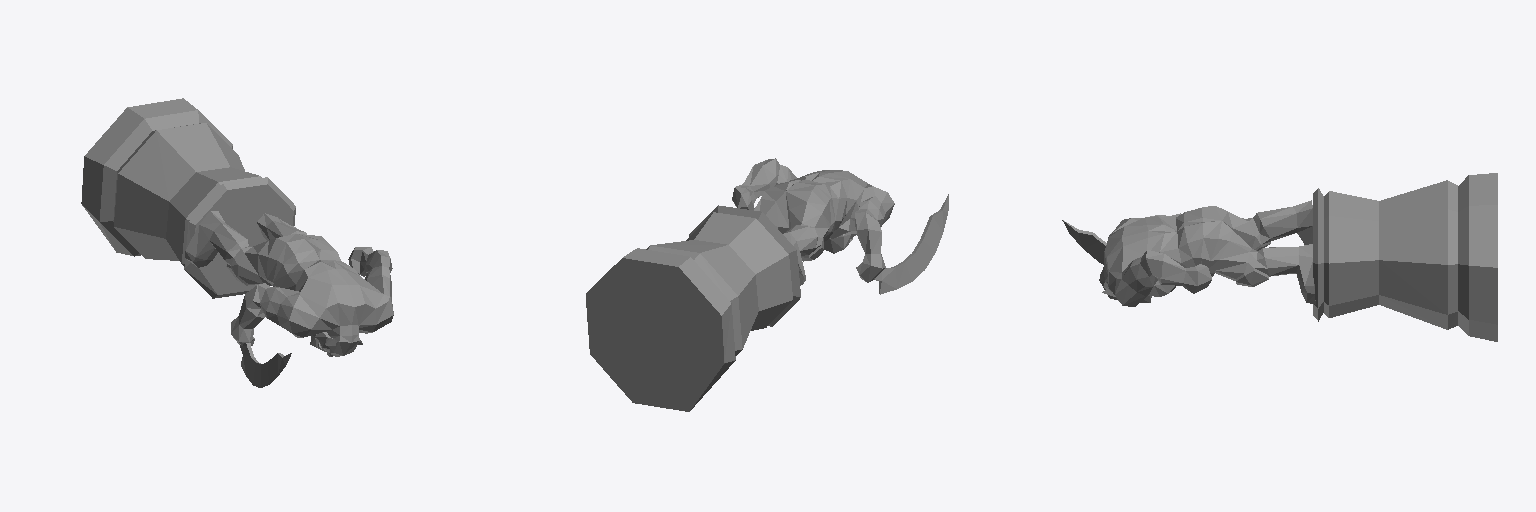
File: statue-Orc-01.obj
3 views of the same model, side by side, from view 1: azimuth 30°, elevation 25°; view 2: azimuth 150°, elevation 25°; view 3: azimuth 270°, elevation 25° (orthographic).
Parts seen in each view (by area): view 1: (null); view 2: (null); view 3: (null).
Part boxes in pixels (x1,y1,x2,y2): (null): (81,98,393,387); (null): (586,158,948,411); (null): (1062,173,1497,341).
Size of the model in its own units: 2.75 by 2.5 by 6.72.